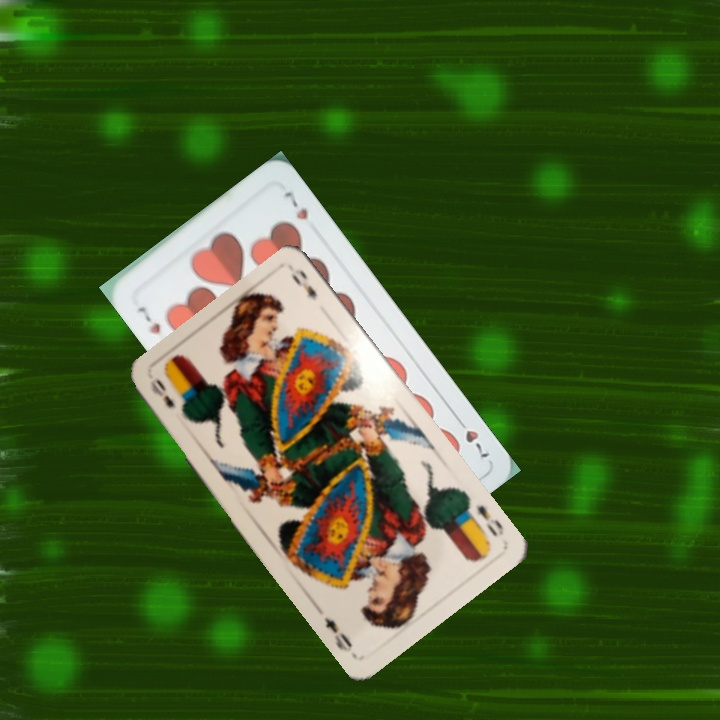EO: (472, 501, 507, 539), (146, 374, 178, 411)
H7: (451, 412, 492, 461), (133, 301, 164, 337)
